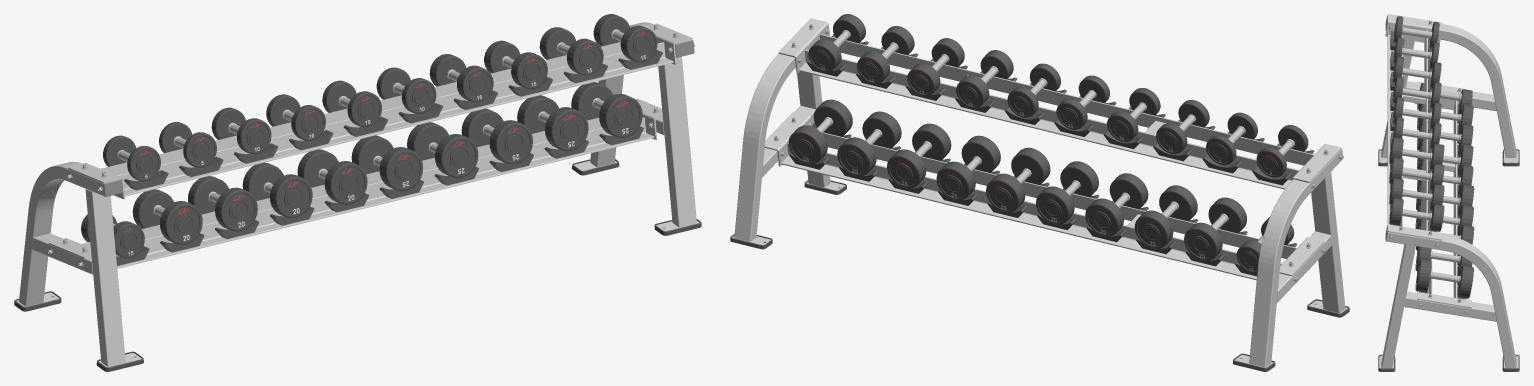
File: dumbbell_rack2.glb
3 renders of one model, left to right at view 1: azimuth 30°, elevation 25°; view 2: azimuth 150°, elevation 25°; view 3: azimuth 270°, elevation 25°, orthographic. The views are drawn at different scales.
Visible parts, largest first — view 1: Object001_13.001, Sphere0010.001; view 2: Sphere0010.001, Object001_13.001; view 3: Sphere0010.001, Object001_13.001.
Part boxes in pixels (x1,y1,x2,y2): Object001_13.001: (47,14,694,267); Sphere0010.001: (14,22,701,371); Sphere0010.001: (730,18,1349,371); Object001_13.001: (773,14,1343,281); Sphere0010.001: (1378,14,1519,371); Object001_13.001: (1389,16,1474,314).
Size of the model in its own units: 2.22 by 0.7251 by 0.605.
2 materials, 2 textured.
